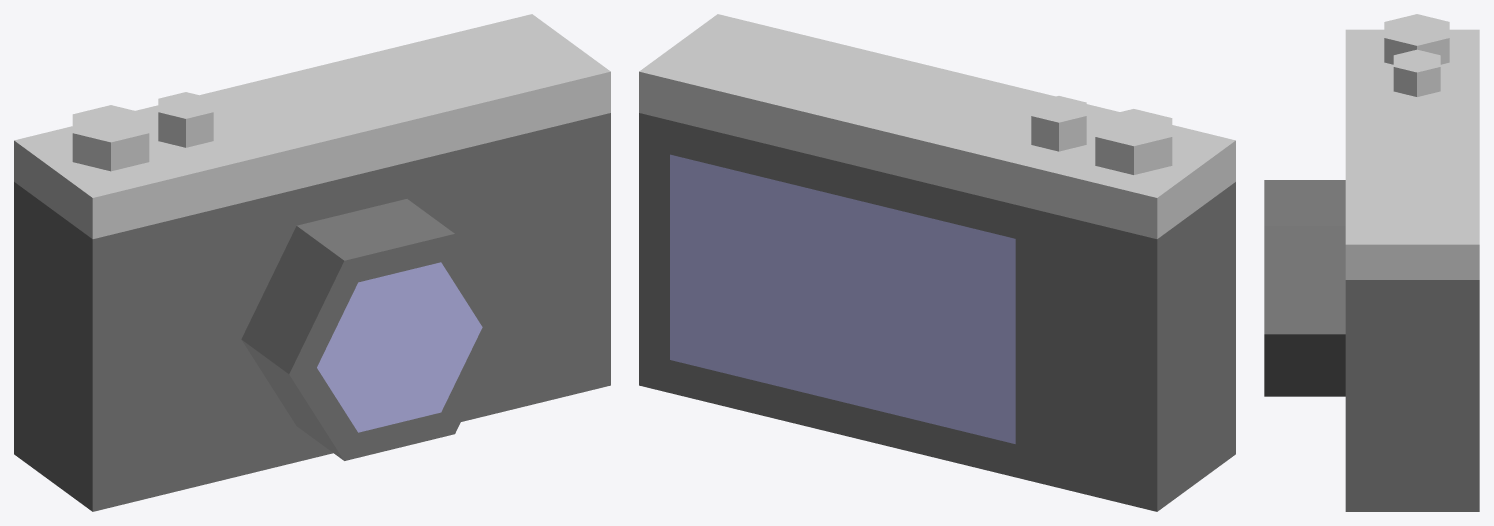
The model's file is Camera.fbx.
3 renders of one model, left to right at view 1: azimuth 30°, elevation 25°; view 2: azimuth 150°, elevation 25°; view 3: azimuth 270°, elevation 25°, orthographic. The views are drawn at different scales.
Parts seen in each view (by area): view 1: Camera; view 2: Camera; view 3: Camera.
Boxes of the visible parts, x1,y1,x2,y2 form: Camera: [14, 14, 610, 511]; Camera: [639, 14, 1235, 511]; Camera: [1264, 14, 1479, 511].
Bounding box in the file's own units: 0.1875 × 0.1185 × 0.0793.
